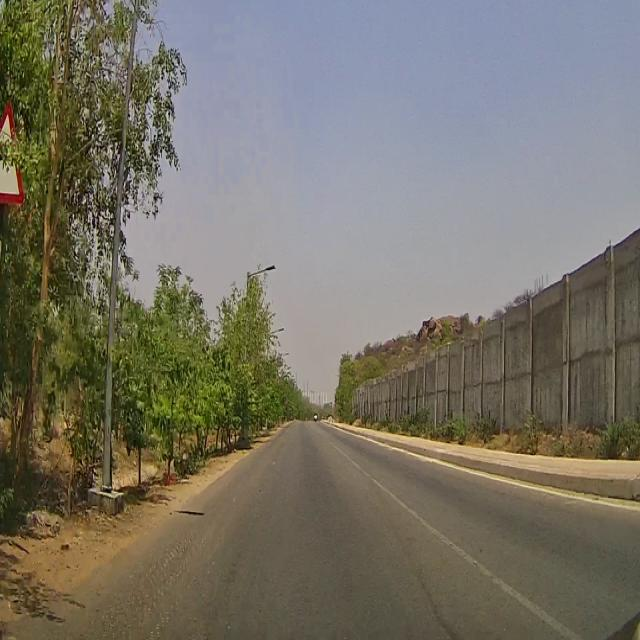right-hand-curve: (0, 85, 33, 216)
